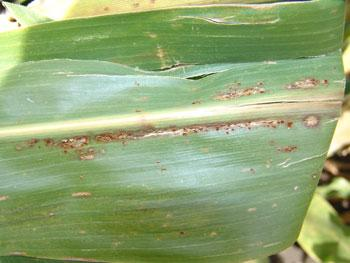Corn rust leaf: (9, 37, 348, 250)
